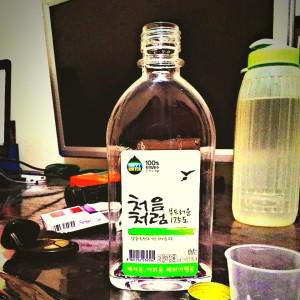soju: (98, 17, 219, 292)
